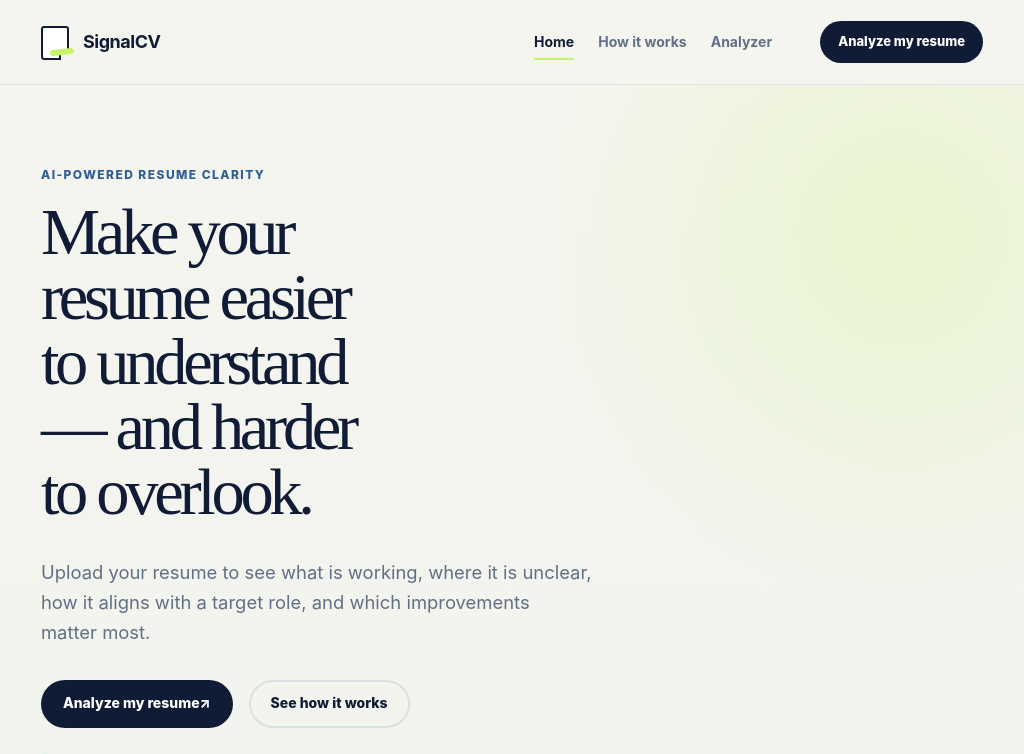
Test: application shell and Home page › renders the analyzer route through application navigation
Step 1. Click the link "Analyzer" → (741,42), box x1=711 y1=23 x2=772 y2=61
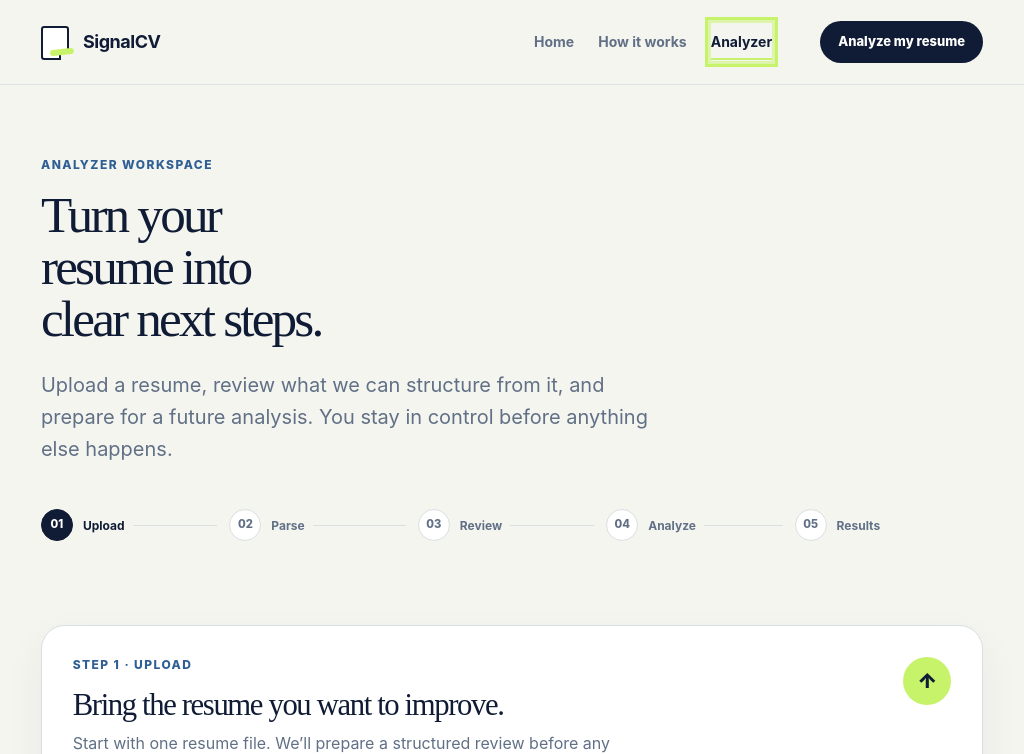
Expected: the heading "Turn your resume into clear next steps." is shown, x1=41 y1=186 x2=322 y2=347
